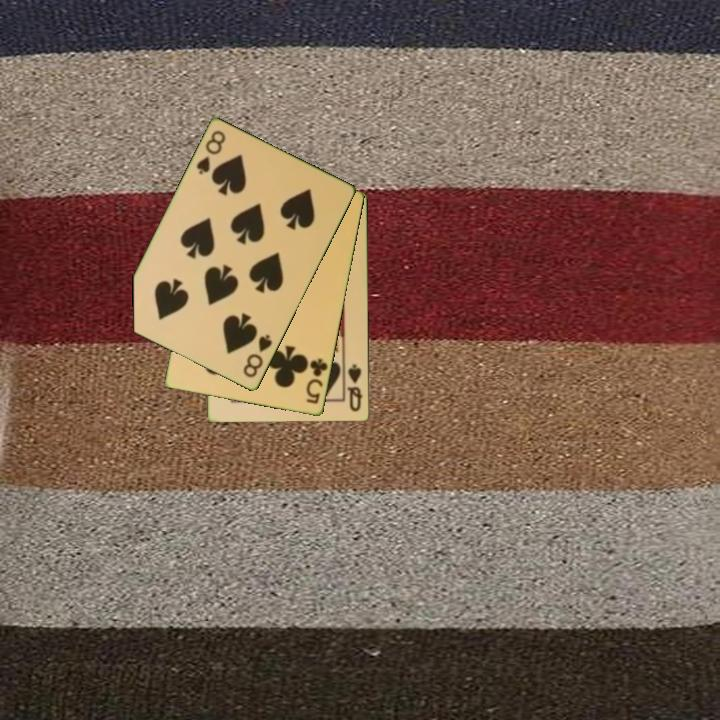5c: (303, 355, 331, 407)
8s: (193, 127, 229, 178), (240, 331, 275, 381)
Qs: (344, 361, 365, 414)
